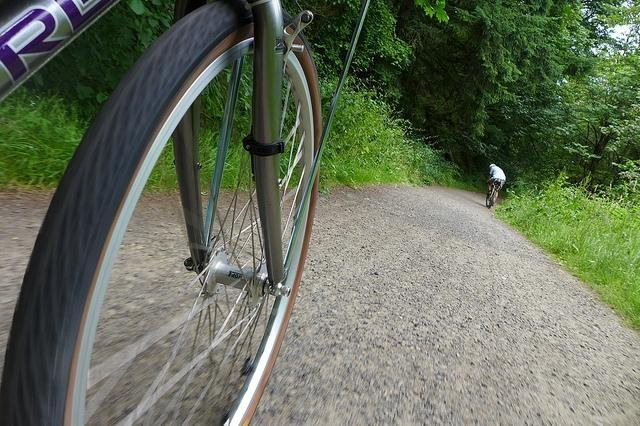bicycle: (2, 0, 335, 422), (485, 180, 501, 210)
